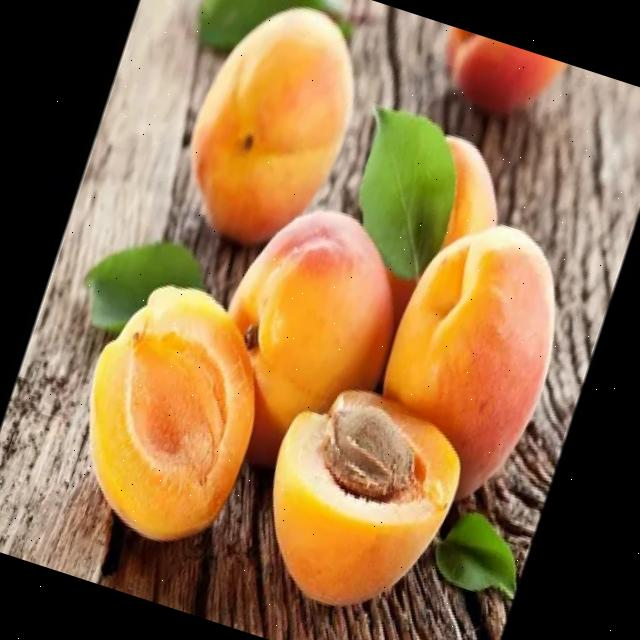Cekirdek: (324, 403, 418, 499)
Kayisi: (91, 290, 254, 539)
Yaprak: (361, 108, 457, 279)
